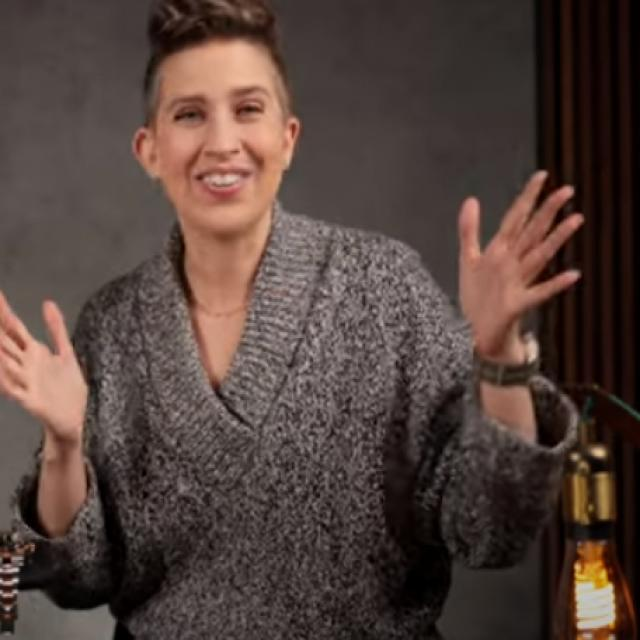Watch: (470, 328, 549, 387), (0, 532, 29, 634)
